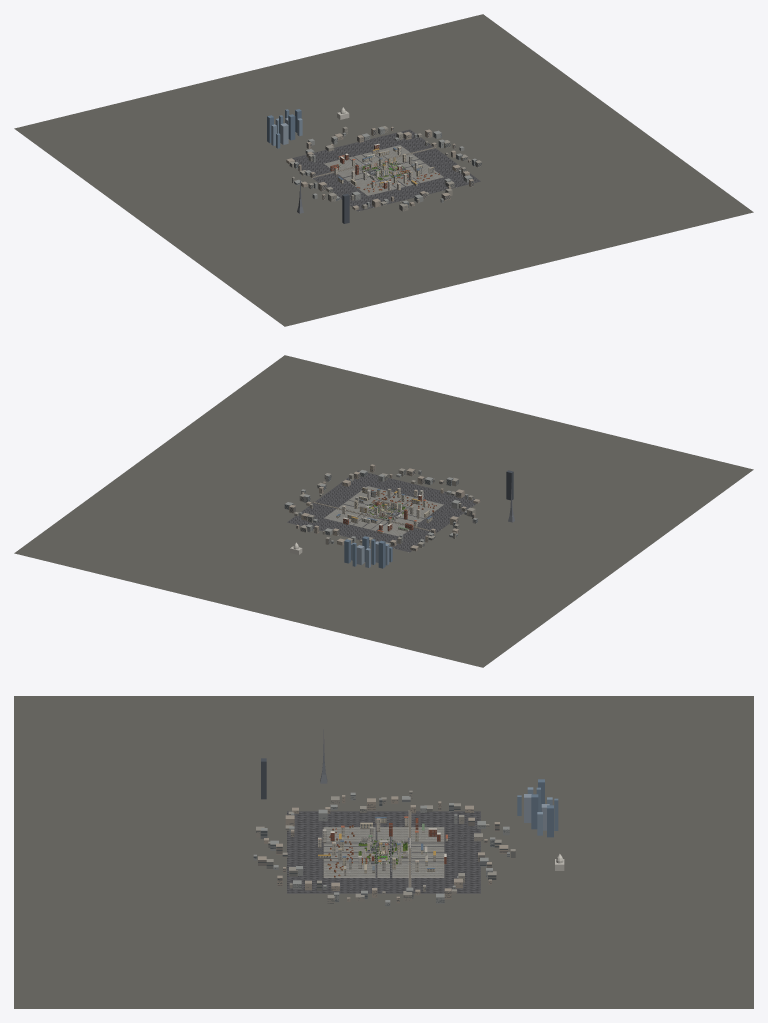
File: map.glb
3 renders of one model, top to bottom at view 1: azimuth 30°, elevation 25°; view 2: azimuth 150°, elevation 25°; view 3: azimuth 270°, elevation 25°, orthographic. The views are drawn at different scales.
Parts seen in each view (by area): view 1: horizon_horizon, sol_asphalt, sol_trottoir, decor_lointain_crepi; view 2: horizon_horizon, sol_asphalt, sol_trottoir, decor_lointain_crepi; view 3: horizon_horizon, sol_asphalt, sol_trottoir, decor_lointain_crepi, decor_lointain_vitrage.
Part boxes in pixels (x1,y1,x2,y2): horizon_horizon: [14, 14, 753, 326]; sol_asphalt: [292, 129, 480, 211]; sol_trottoir: [324, 145, 443, 195]; decor_lointain_crepi: [334, 147, 435, 191]; horizon_horizon: [14, 355, 753, 667]; sol_asphalt: [287, 470, 480, 552]; sol_trottoir: [324, 486, 443, 536]; decor_lointain_crepi: [336, 487, 435, 533]; horizon_horizon: [14, 696, 753, 1008]; sol_asphalt: [287, 811, 480, 893]; sol_trottoir: [324, 827, 443, 877]; decor_lointain_crepi: [318, 818, 447, 876]; decor_lointain_vitrage: [318, 818, 446, 875].
Size of the model in its own units: 3200 by 320 by 3200.
Materials: 31 (20 with a texture image).
